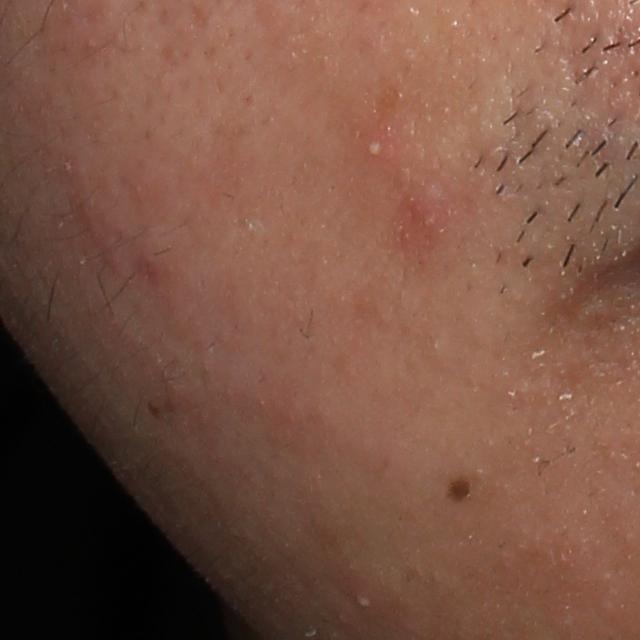nevus: (445, 475, 472, 504)
papule: (403, 192, 450, 239)
pustule: (362, 135, 391, 164)
